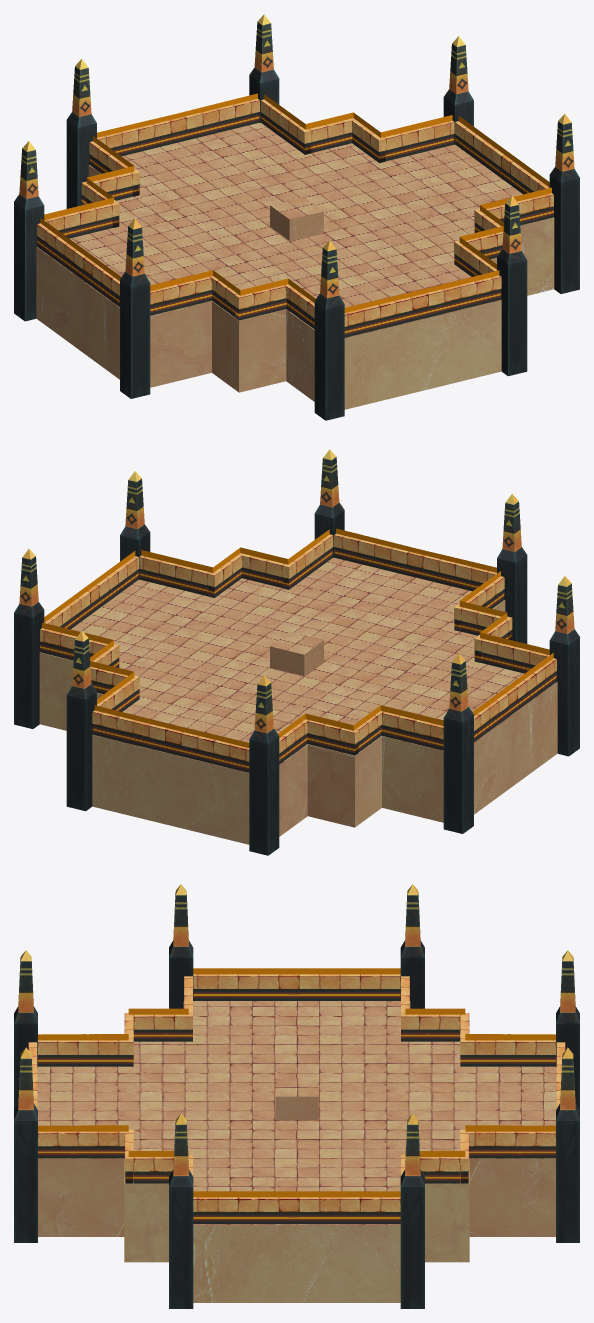
File: Battle_Stage 44.fbx
3 renders of one model, top to bottom at view 1: azimuth 30°, elevation 25°; view 2: azimuth 150°, elevation 25°; view 3: azimuth 270°, elevation 25°, orthographic. The views are drawn at different scales.
Parts seen in each view (by area): view 1: Platform_Cube__2_, CR_Platform_Cube.069, CR_Platform_Cube.072, Plane.188, Platform_Cube__2_.001; view 2: Platform_Cube__2_, CR_Platform_Cube.069, CR_Platform_Cube.072, Plane.188, Platform_Cube__2_.001; view 3: Platform_Cube__2_, CR_Platform_Cube.072, CR_Platform_Cube.069, Plane.188, Platform_Cube__2_.001.
Part boxes in pixels (left/top/right/bottom): Platform_Cube__2_: left=36, top=122, right=554, bottom=409; CR_Platform_Cube.069: left=14, top=14, right=579, bottom=420; CR_Platform_Cube.072: left=37, top=98, right=553, bottom=337; Plane.188: left=40, top=93, right=551, bottom=312; Platform_Cube__2_.001: left=270, top=197, right=323, bottom=240; Platform_Cube__2_: left=39, top=557, right=557, bottom=844; CR_Platform_Cube.069: left=14, top=449, right=579, bottom=855; CR_Platform_Cube.072: left=40, top=533, right=556, bottom=772; Plane.188: left=42, top=528, right=553, bottom=747; Platform_Cube__2_.001: left=270, top=632, right=323, bottom=675; Platform_Cube__2_: left=37, top=1001, right=556, bottom=1302; CR_Platform_Cube.072: left=28, top=974, right=565, bottom=1223; CR_Platform_Cube.069: left=14, top=884, right=579, bottom=1308; Plane.188: left=38, top=968, right=555, bottom=1197; Platform_Cube__2_.001: left=275, top=1078, right=318, bottom=1119.
Size of the model in its own units: 6558 by 2434 by 6550.
